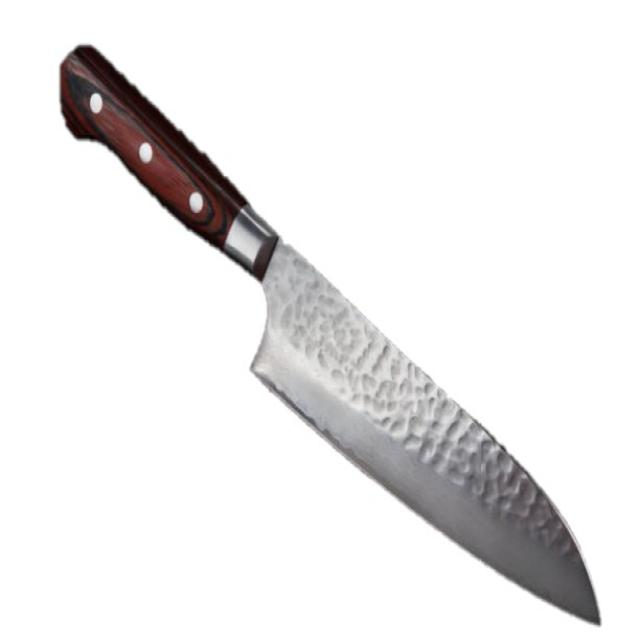knife: (53, 37, 615, 633)
